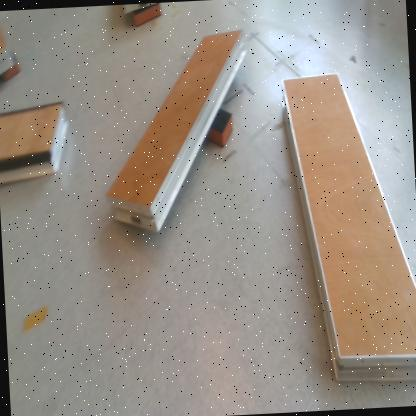Stairs: (281, 71, 416, 383), (107, 30, 246, 233), (1, 102, 69, 187), (1, 33, 16, 79)
